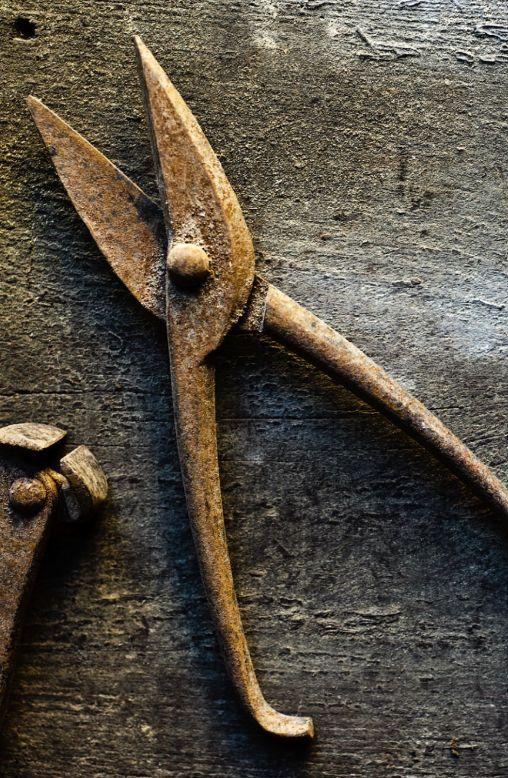metal: (27, 62, 500, 716), (0, 422, 107, 762)
